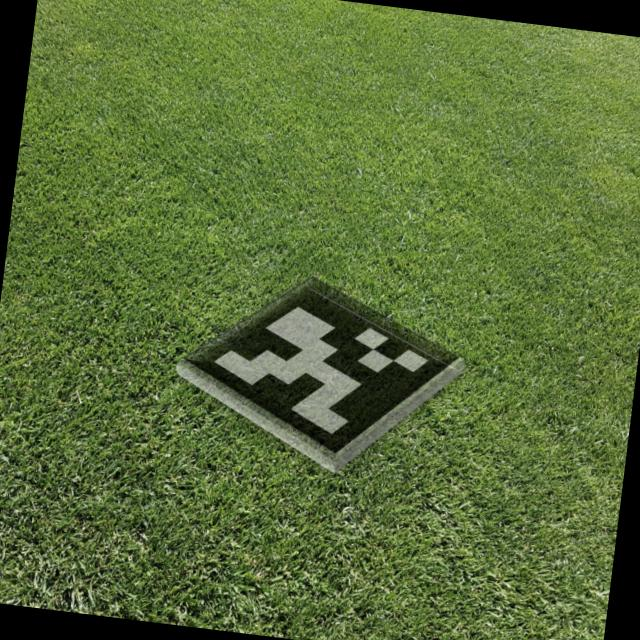marker: (159, 222, 486, 509)
